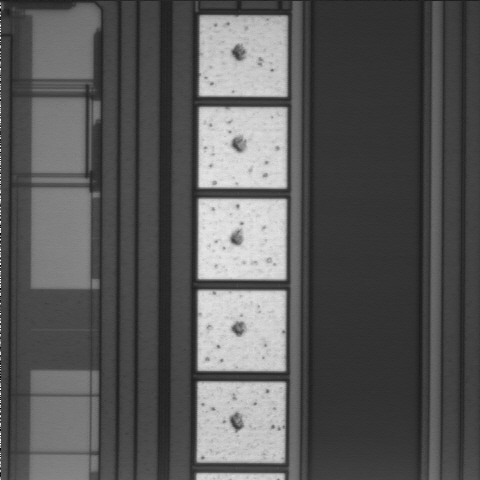pad: (197, 382, 285, 463), (199, 107, 286, 188), (199, 16, 287, 96), (198, 199, 286, 279), (198, 291, 286, 371)
